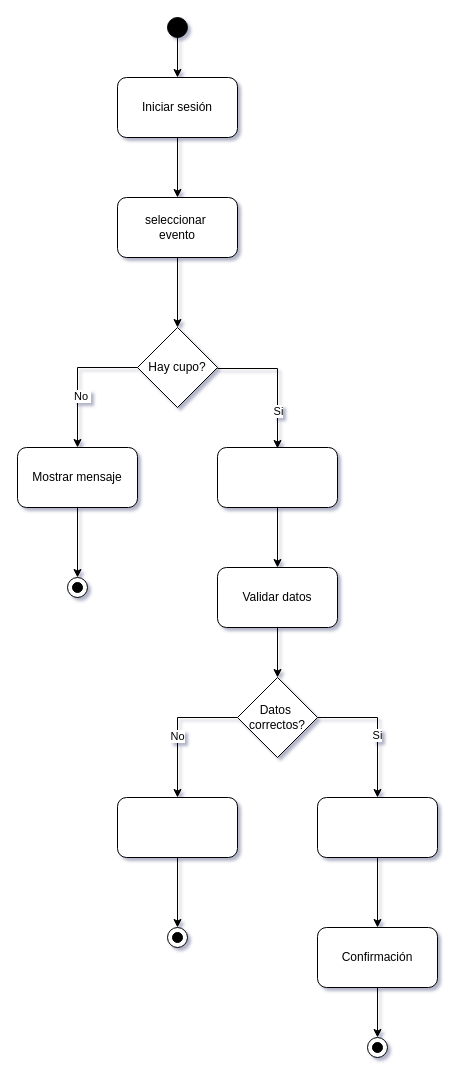
The diagram is 461 pixels wide and 1081 high, and some of its shapes have lost their labels. Each missing label, with the centre of its shape:
"Mostrar error" belongs at (177,827).
"Registrar solicitud" belongs at (377,827).
"Subir documentos" belongs at (277,477).
